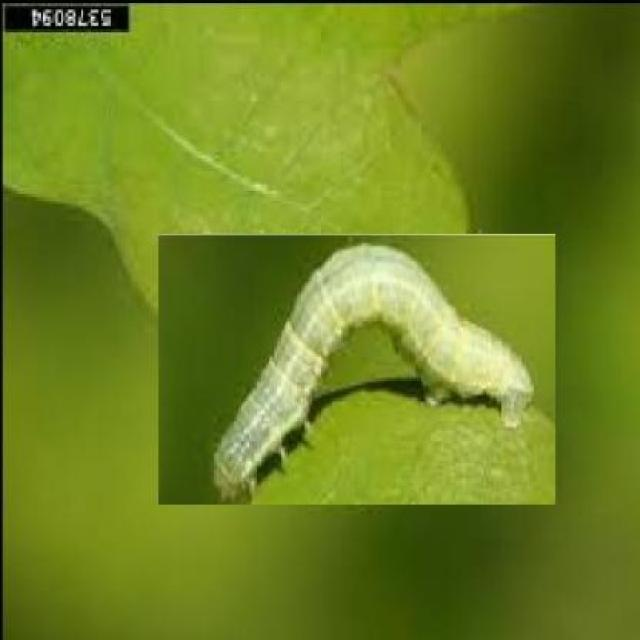Plaga: (158, 235, 558, 507)
